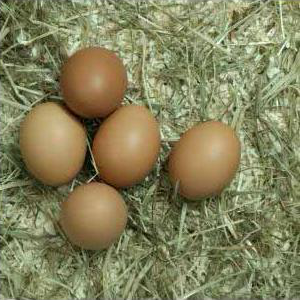egg: (165, 118, 242, 201), (19, 100, 88, 187), (94, 104, 160, 190), (58, 182, 128, 251), (61, 47, 127, 118)
